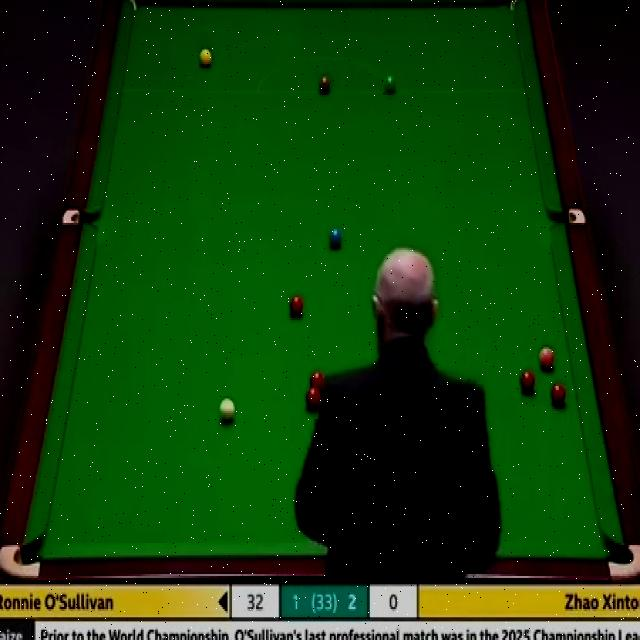blue-ball: (328, 226, 343, 248)
brown-ball: (318, 74, 331, 95)
green-ball: (383, 76, 399, 97)
pink-ball: (539, 345, 555, 371)
red-ball: (521, 370, 538, 394), (288, 295, 304, 318), (551, 384, 567, 406), (308, 371, 325, 388), (305, 386, 320, 403)
white-ball: (220, 397, 237, 423)
yellow-ball: (200, 49, 213, 70)
